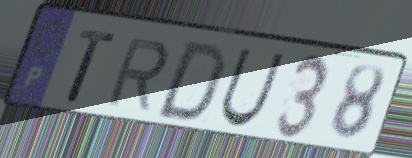3: (272, 51, 331, 143)
8: (326, 62, 387, 146)
D: (151, 39, 230, 124)
R: (102, 36, 174, 114)
T: (64, 26, 119, 106)
U: (216, 46, 288, 130)
